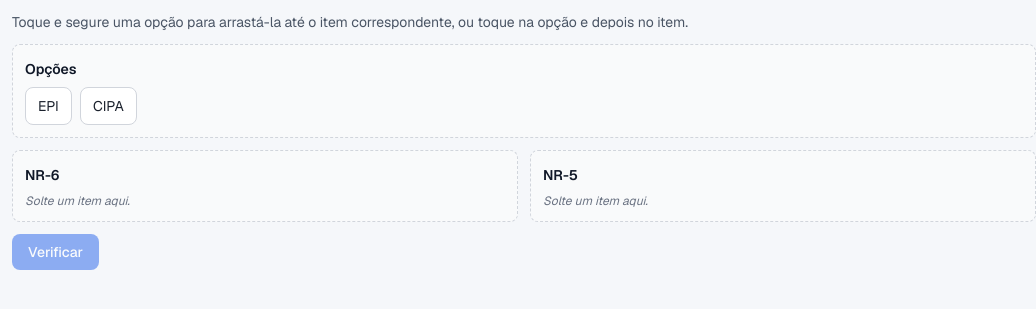
Scenario: matching › matches without dragging, by click and keyboard alone
The width and height of the screenshot is (1036, 309).
Click the button "EPI" at (48, 106), box [25,87,72,125]
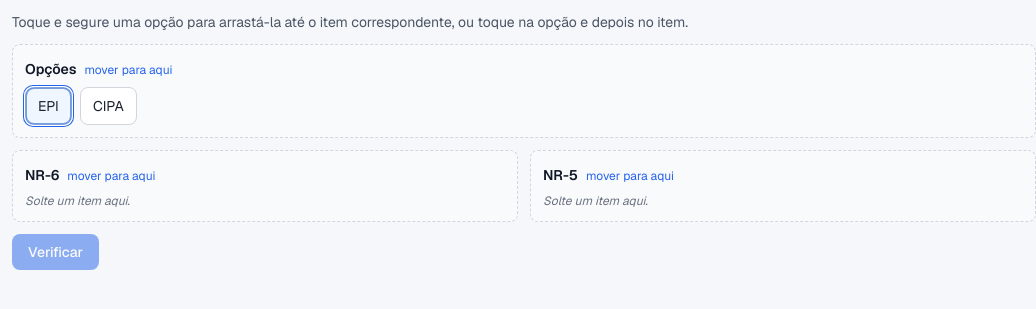
Click the button "NR-6mover para aqui" at (42, 175), box [25,165,505,185]
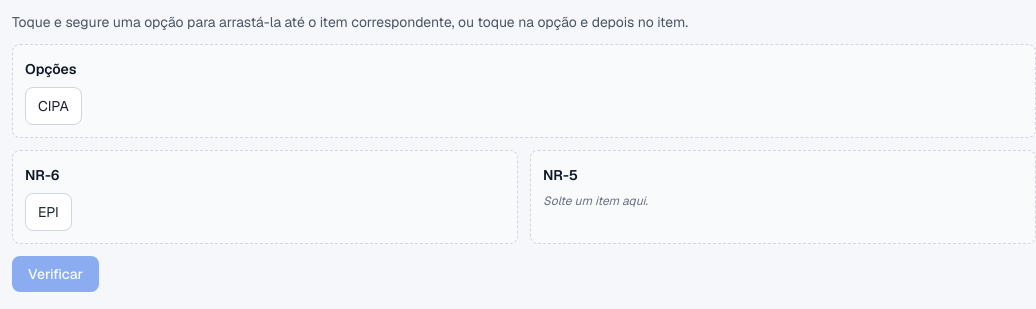
Click the button "CIPA" at (53, 106), box [25,87,82,125]
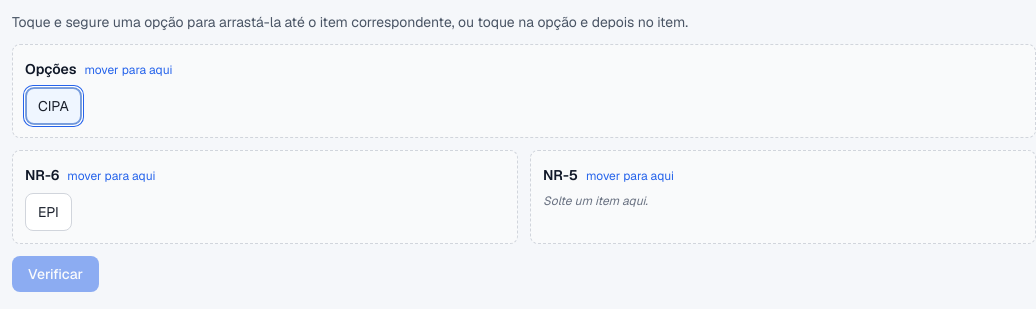
Click the button "NR-5mover para aqui" at (560, 175), box [543,165,1023,185]
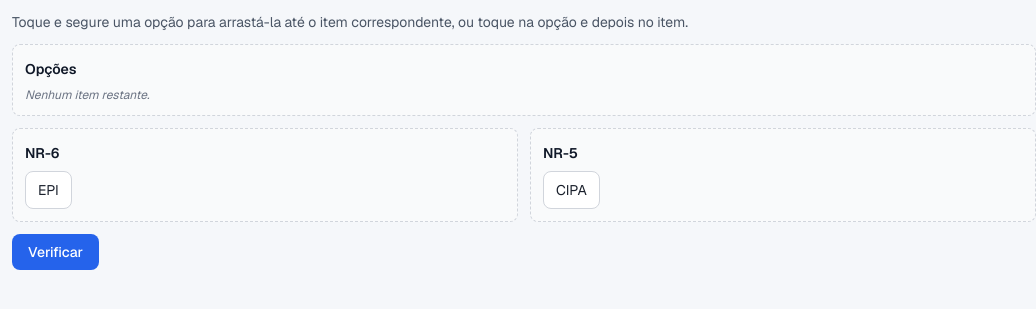
Click the button "Verificar" at (56, 252), box [12,234,99,270]
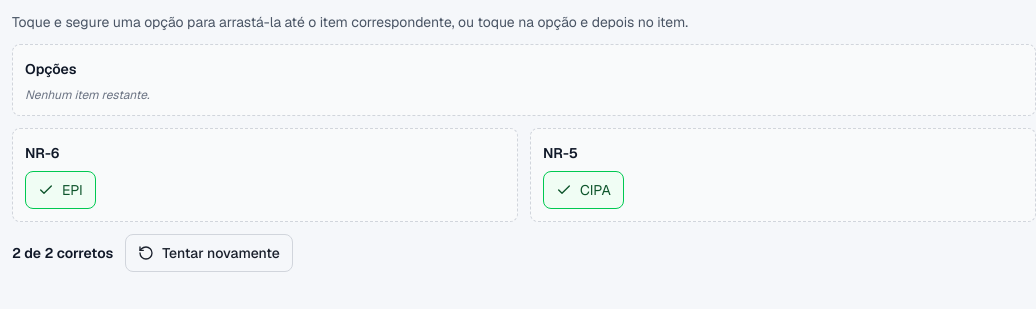
Now the text "2 de 2 corretos" is shown, box [12,243,113,263]
